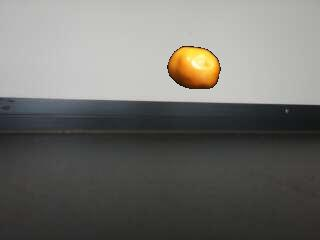Potato: (168, 46, 221, 90)
